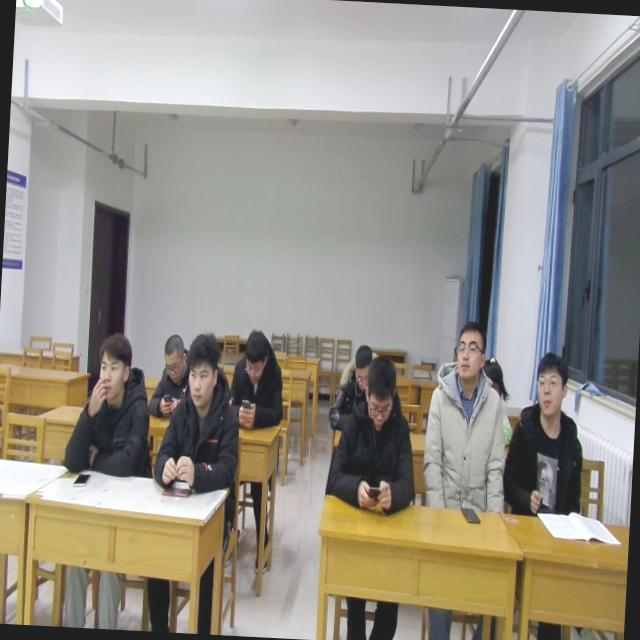bow: (324, 338, 379, 432), (147, 332, 196, 420)
down: (180, 324, 224, 411), (362, 354, 399, 435), (239, 322, 274, 382), (158, 327, 191, 386), (347, 338, 373, 395)
lookup: (91, 332, 136, 408), (448, 318, 489, 387), (532, 348, 571, 420)
sit: (422, 319, 514, 518), (152, 327, 246, 500), (328, 352, 422, 517), (501, 347, 590, 518), (60, 333, 154, 485), (228, 326, 287, 432)
